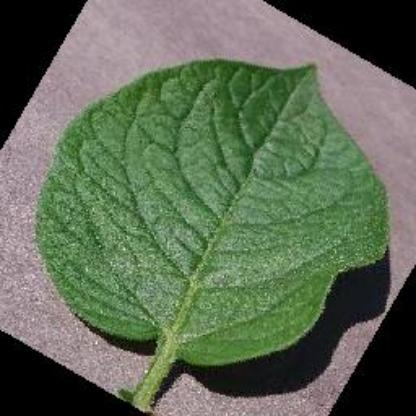Healthy-plant: (20, 18, 410, 404)
